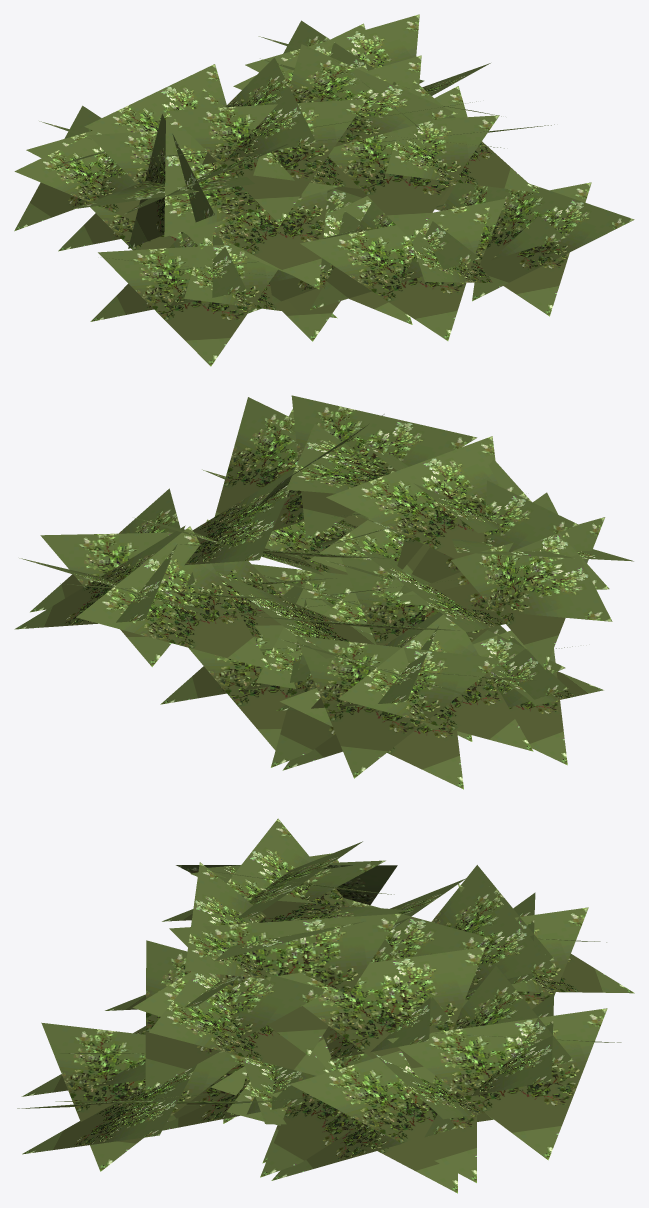
The model's file is tree_fig_top_a.dae.
The picture shows the model from 3 angles, top to bottom: view 1: azimuth 30°, elevation 25°; view 2: azimuth 150°, elevation 25°; view 3: azimuth 270°, elevation 25°; orthographic projection. The views are drawn at different scales.
Visible parts, largest first — view 1: canopy163-Pivot; view 2: canopy163-Pivot; view 3: canopy163-Pivot.
Boxes of the visible parts, x1,y1,x2,y2 form: canopy163-Pivot: (14,14,634,366); canopy163-Pivot: (14,395,633,789); canopy163-Pivot: (17,818,634,1193).
Bounding box in the file's own units: 18.63 × 18.5 × 7.92.
